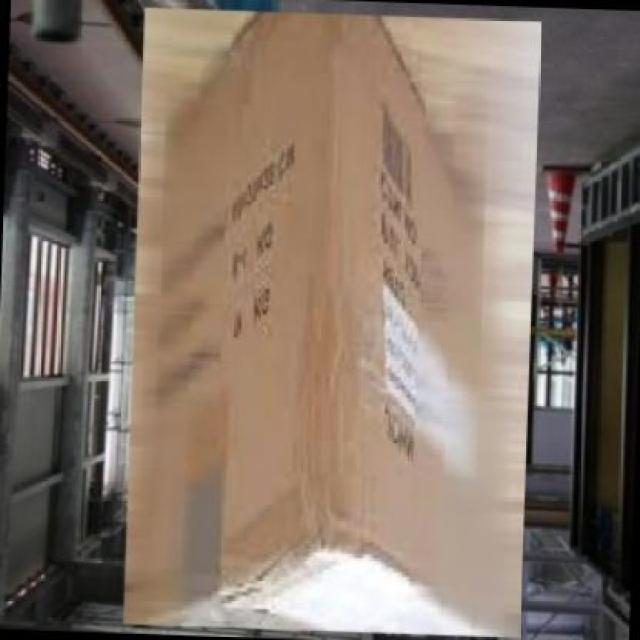box: (119, 0, 546, 640)
